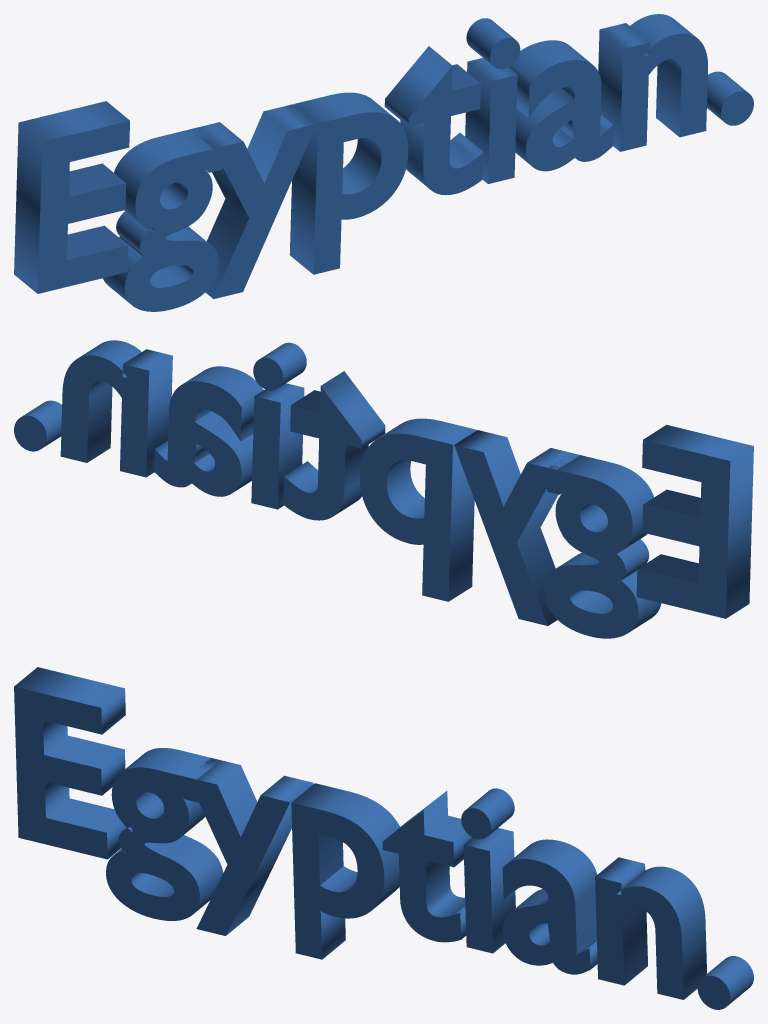
File: egyptian.glb
3 renders of one model, top to bottom at view 1: azimuth 30°, elevation 25°; view 2: azimuth 150°, elevation 25°; view 3: azimuth 330°, elevation 25°, orthographic.
Parts seen in each view (by area): view 1: Text; view 2: Text; view 3: Text.
Part boxes in pixels (bbox=[...]): Text: bbox=[14, 14, 753, 311]; Text: bbox=[14, 340, 753, 638]; Text: bbox=[14, 667, 753, 1009].
Size of the model in its own units: 3.48 by 0.9613 by 0.25.
